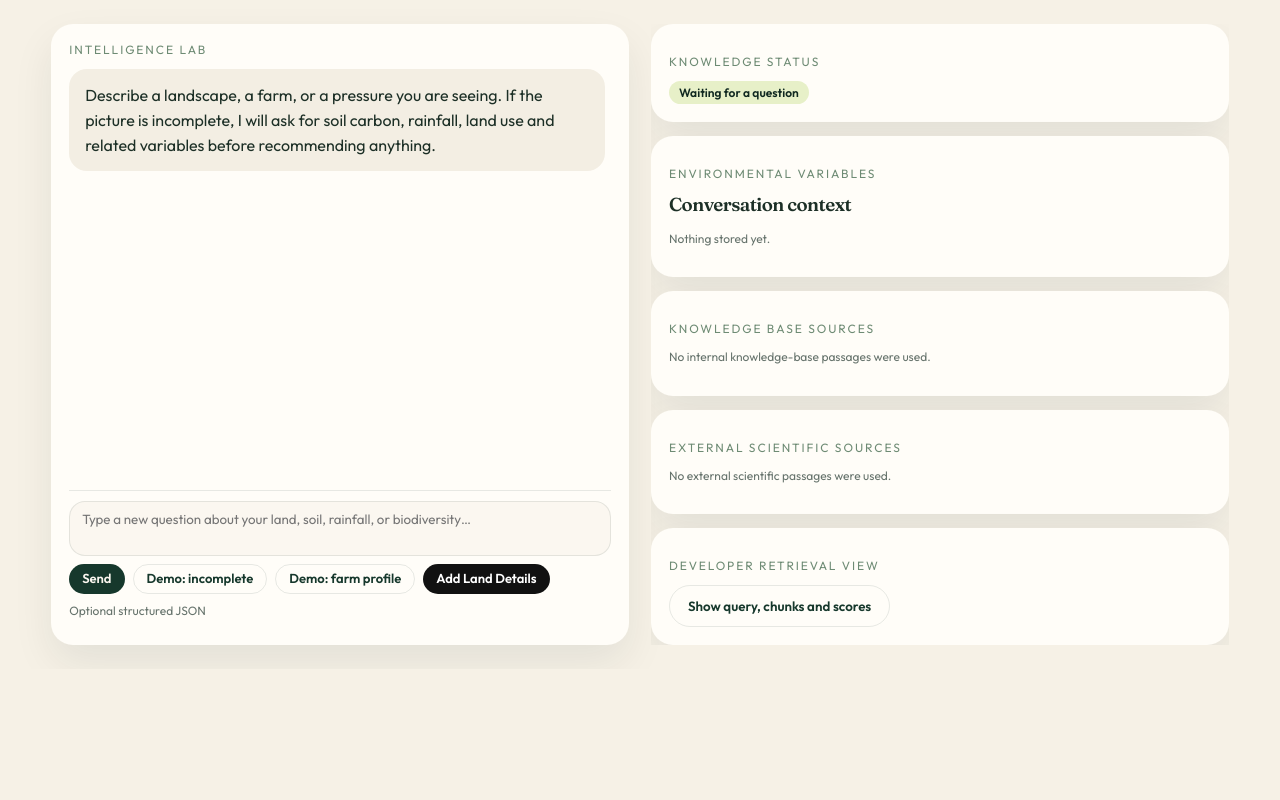
Intelligence Lab land details › renders assistant markdown tables instead of pipe syntax
Replace the text in the text box with placeholder "Type a new question" with "What should I do on my wheat farm?" at (340,529), box [69, 501, 611, 556]
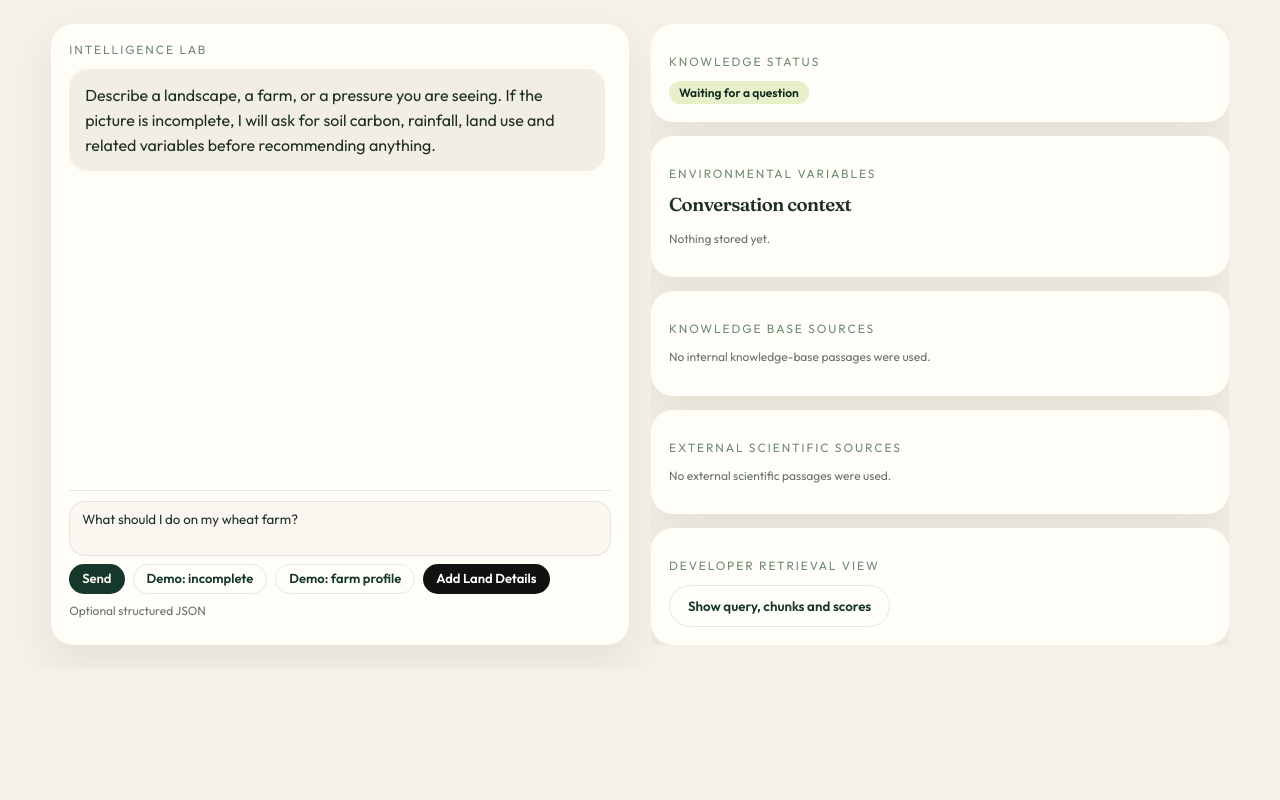
Click the button "Send" at (97,579), box [69, 564, 124, 594]
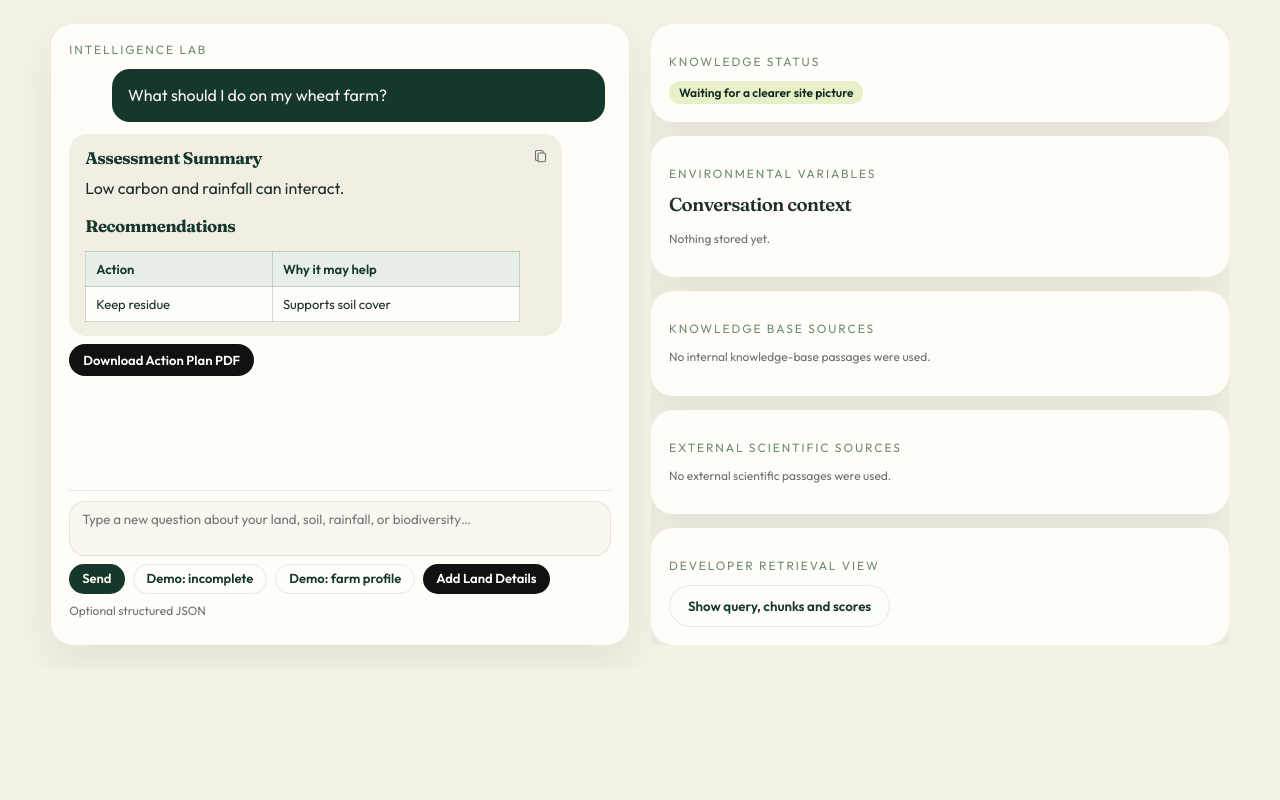
Check: the element with test id "assistant-markdown" is shown, box [85, 148, 520, 322]
Check: the table is shown, box [85, 251, 520, 322]
Check: the column heading "Action" is shown, box [86, 251, 272, 286]
